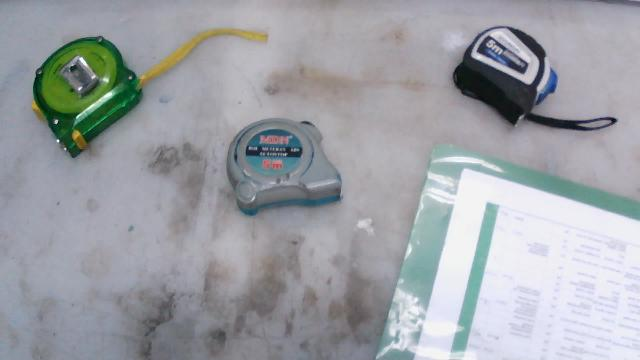meteran: (211, 102, 358, 246)
